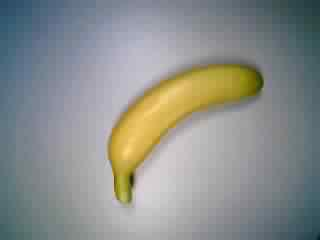banana: (105, 59, 271, 208)
